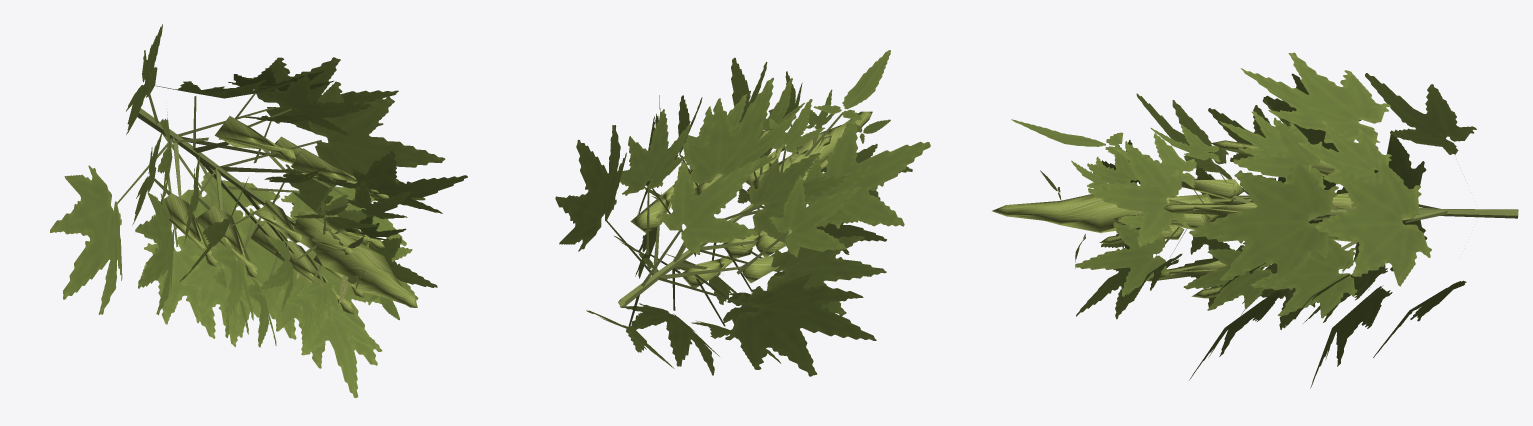
Rendered from p_tree_flowering_c1_cards.obj.
3 views of the same model, side by side, from view 1: azimuth 30°, elevation 25°; view 2: azimuth 150°, elevation 25°; view 3: azimuth 270°, elevation 25° (orthographic). The views are drawn at different scales.
Size of the model in its own units: 1.56 by 1.31 by 1.8.
Materials: 1 (1 with a texture image).
